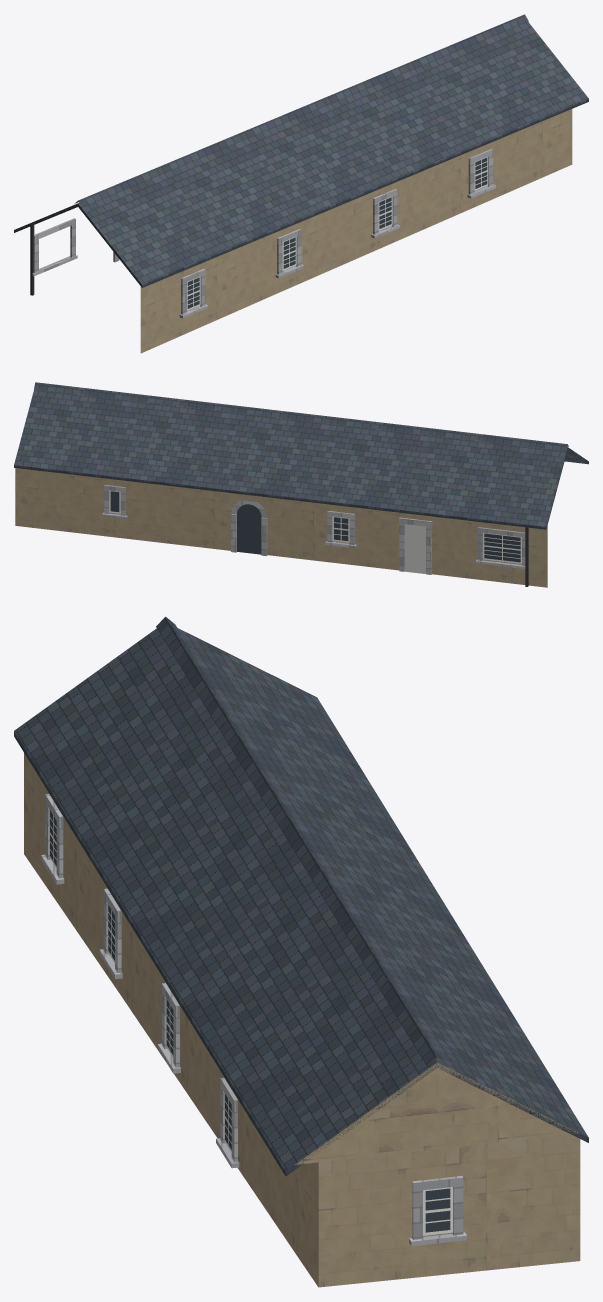
The picture shows the model from 3 angles, top to bottom: view 1: azimuth 30°, elevation 25°; view 2: azimuth 150°, elevation 25°; view 3: azimuth 270°, elevation 25°; orthographic projection. The views are drawn at different scales.
Parts seen in each view (by area): view 1: wing_slate, wing_wall, wing_margin, wing_glass, wing_frame; view 2: wing_slate, wing_wall, wing_margin, wing_glass, wing_door, wing_frame; view 3: wing_slate, wing_wall, wing_margin, wing_glass, wing_frame.
Boxes of the visible parts, bbox=[...] form: wing_slate: bbox=[14, 14, 588, 287]; wing_wall: bbox=[140, 109, 572, 353]; wing_margin: bbox=[32, 149, 495, 318]; wing_glass: bbox=[187, 157, 487, 308]; wing_frame: bbox=[187, 156, 488, 310]; wing_slate: bbox=[14, 382, 588, 529]; wing_wall: bbox=[15, 468, 547, 587]; wing_margin: bbox=[102, 485, 528, 574]; wing_glass: bbox=[110, 491, 520, 562]; wing_door: bbox=[405, 524, 425, 573]; wing_frame: bbox=[109, 490, 521, 563]; wing_slate: bbox=[14, 616, 588, 1176]; wing_wall: bbox=[24, 753, 580, 1287]; wing_margin: bbox=[41, 794, 466, 1246]; wing_glass: bbox=[50, 810, 450, 1232]; wing_frame: bbox=[49, 810, 452, 1235].
Bounding box in the file's own units: 22.31 × 4.83 × 11.44.
7 materials, 3 textured.
